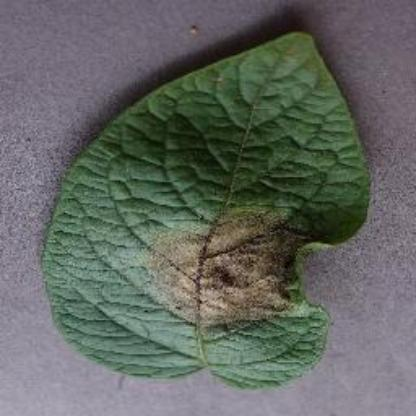Late-Blight: (37, 28, 375, 393)
